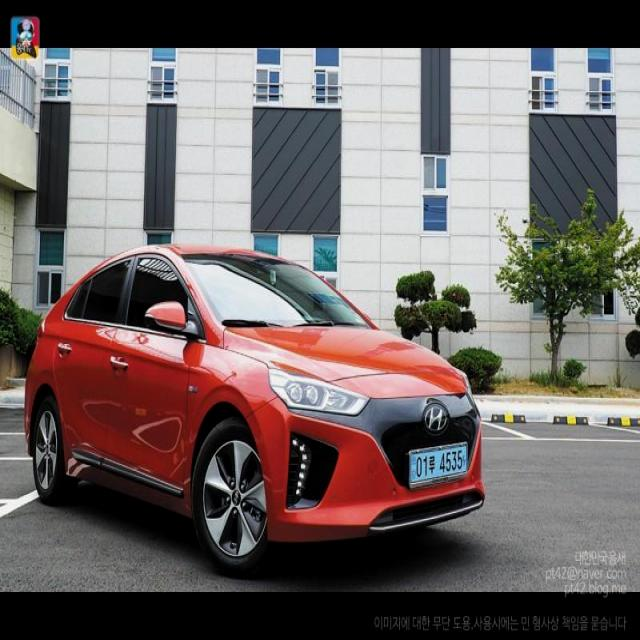EV_plate: (409, 444, 468, 489)
car: (24, 240, 491, 565)
